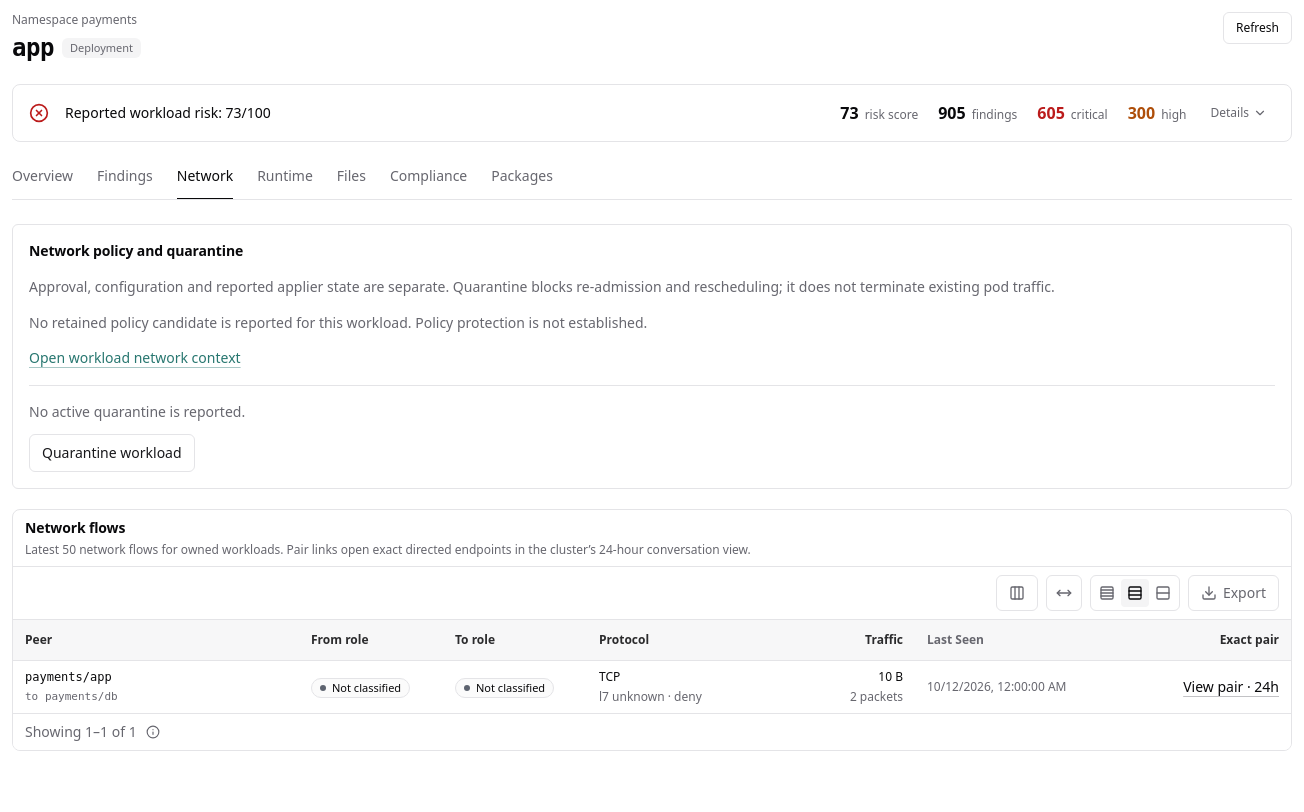
Test: discloses actual source bounds and directed network pair links
Expected: the link to "/clusters/cluster/network?tab=conversations&hours=24&from=payments%2Fapp&to=payments%2Fdb&hide_platform=false" is shown, [1183,676,1279,696]
Press the mouse on the tab "Runtime" at (285, 181), box [257,162,313,200]
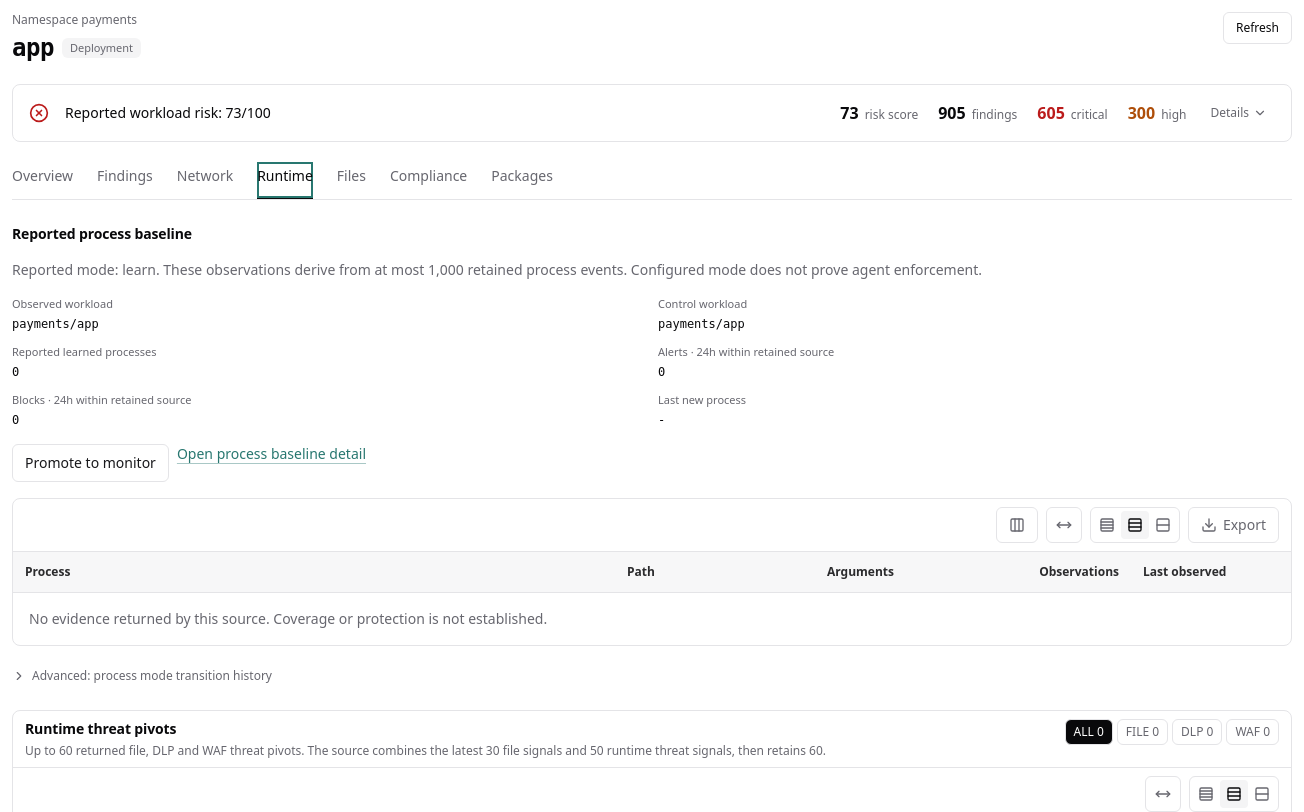
Expected: the text "Up to 60 returned" is shown, [25,742,826,758]
